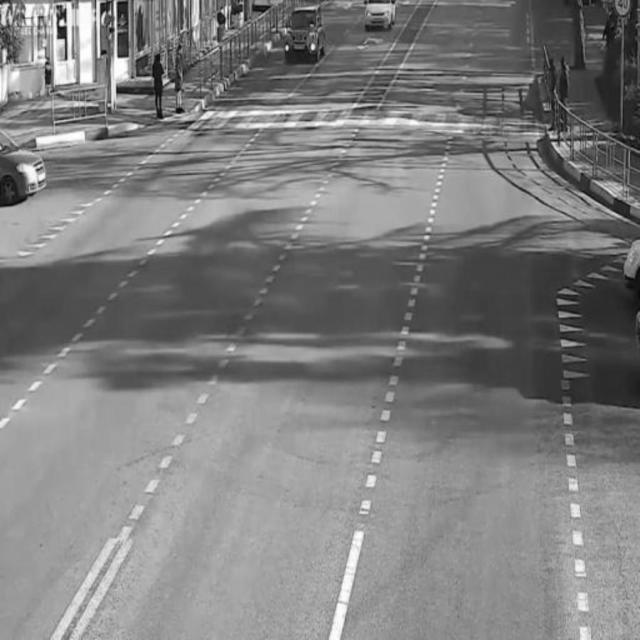person: (546, 42, 574, 133), (170, 39, 190, 120), (151, 54, 169, 120)
vehicle: (1, 130, 46, 194), (286, 0, 327, 60), (616, 235, 640, 296), (362, 1, 396, 33)
